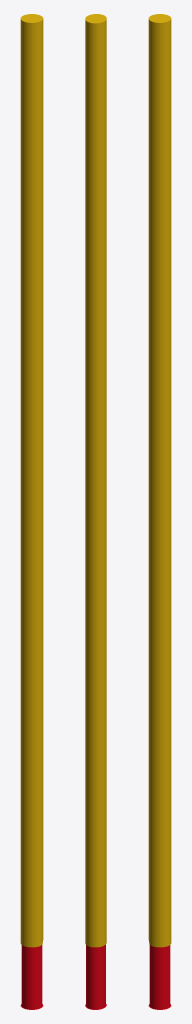
The model's file is Termometro de laboratorio.fbx.
The picture shows the model from 3 angles, left to right: view 1: azimuth 90°, elevation 25°; view 2: azimuth 150°, elevation 25°; view 3: azimuth 270°, elevation 25°; orthographic projection.
Parts seen in each view (by area): view 1: Termometro de laboratorio.001; view 2: Termometro de laboratorio.001; view 3: Termometro de laboratorio.001.
Boxes of the visible parts, bbox=[...] form: Termometro de laboratorio.001: bbox=[20, 14, 43, 1009]; Termometro de laboratorio.001: bbox=[85, 14, 106, 1009]; Termometro de laboratorio.001: bbox=[148, 14, 171, 1009].
Size of the model in its own units: 10.27 by 529 by 11.01.
